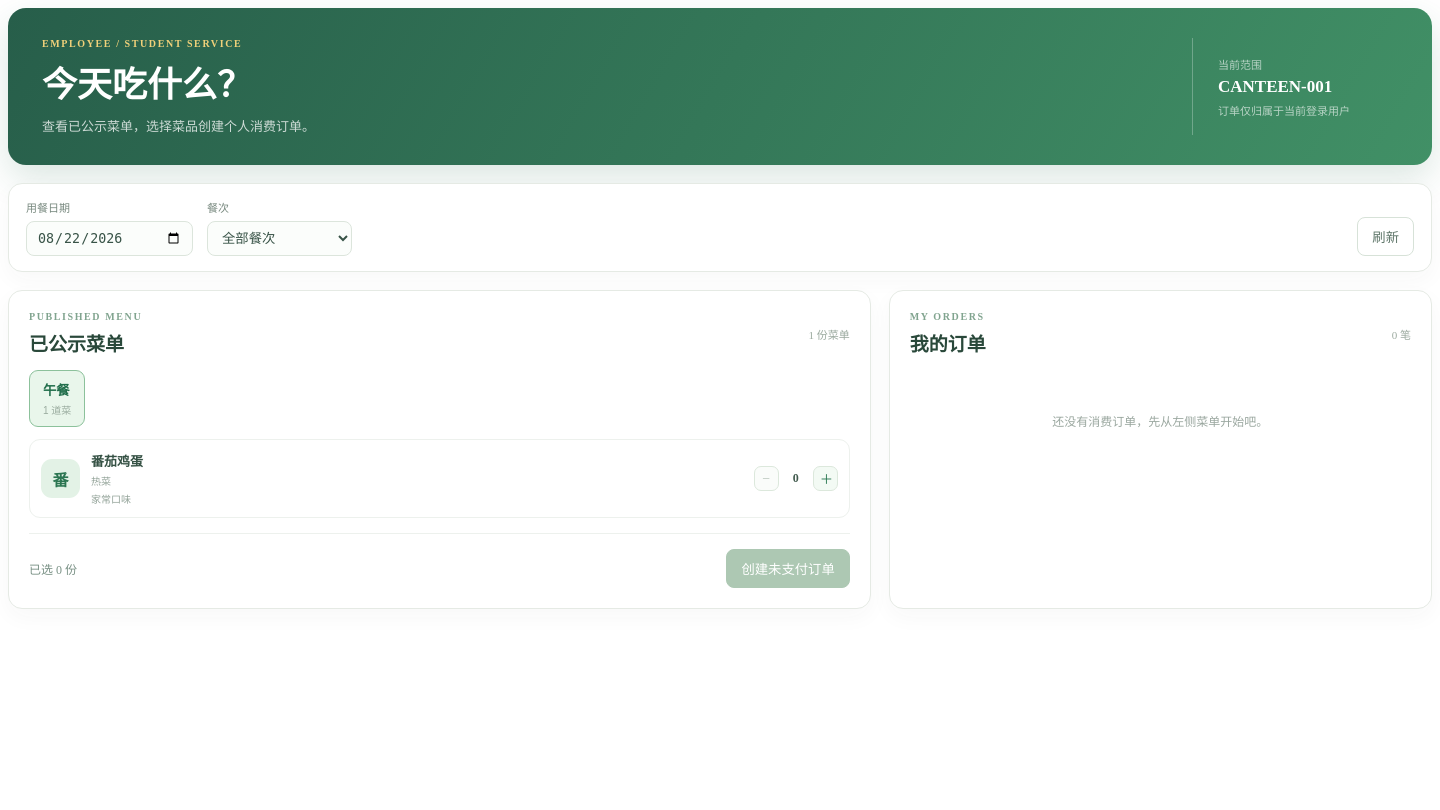
DinerWorkspace › loads a published menu and creates a personal unpaid order
Click the button named "增加数量". click: (825, 479)
box: [813, 466, 838, 491]
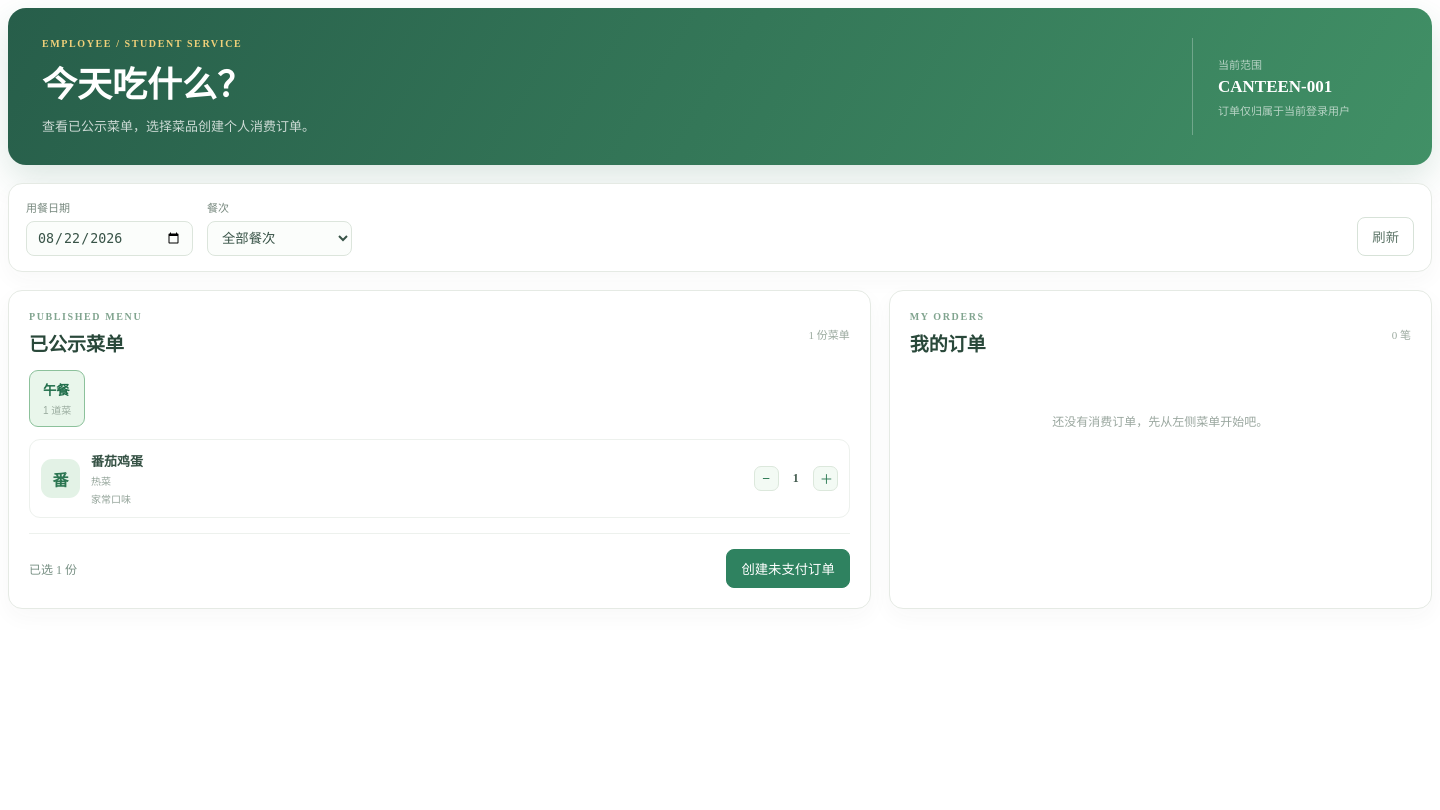
Click the button "创建未支付订单". click: (788, 569)
box: [726, 549, 850, 588]
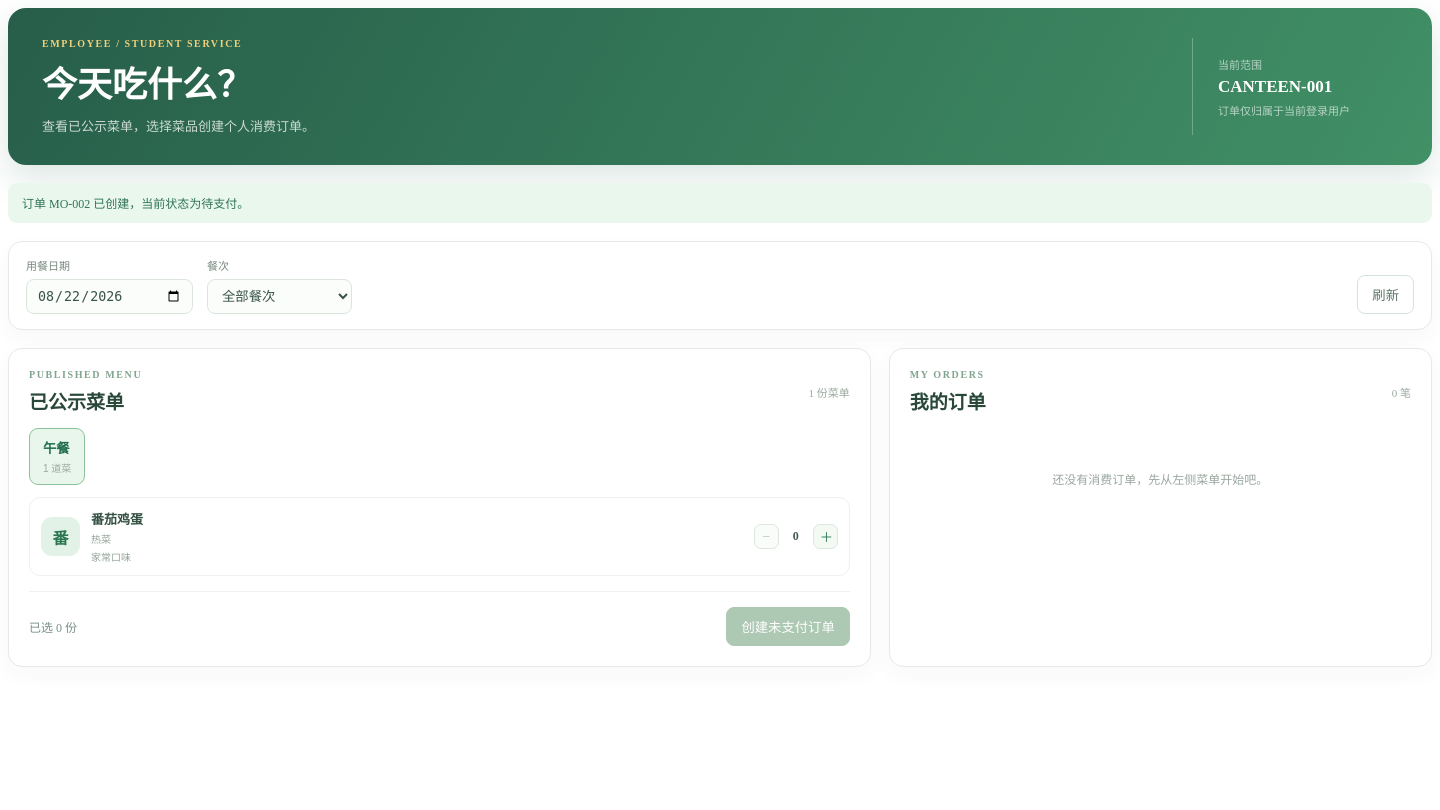
Now the text "订单 MO-002 已创建" is shown, box [22, 197, 249, 211]
